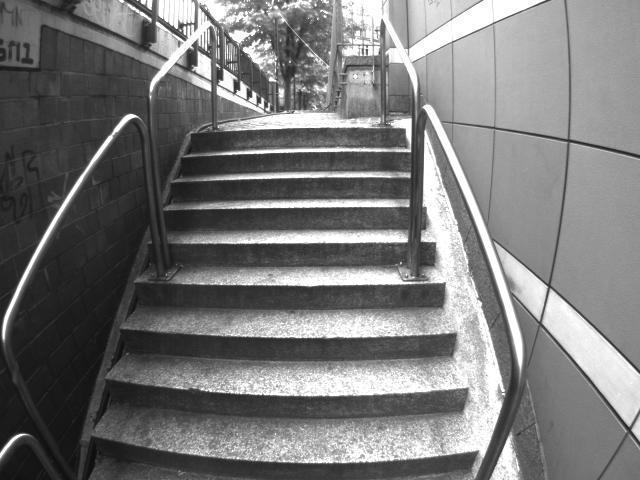Escaleras: (76, 112, 482, 479)
